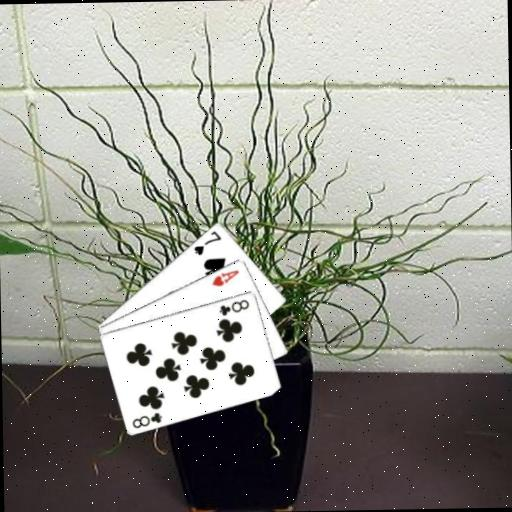7S: (190, 227, 223, 257)
8C: (217, 296, 251, 317), (130, 409, 164, 430)
AH: (209, 267, 241, 288)
